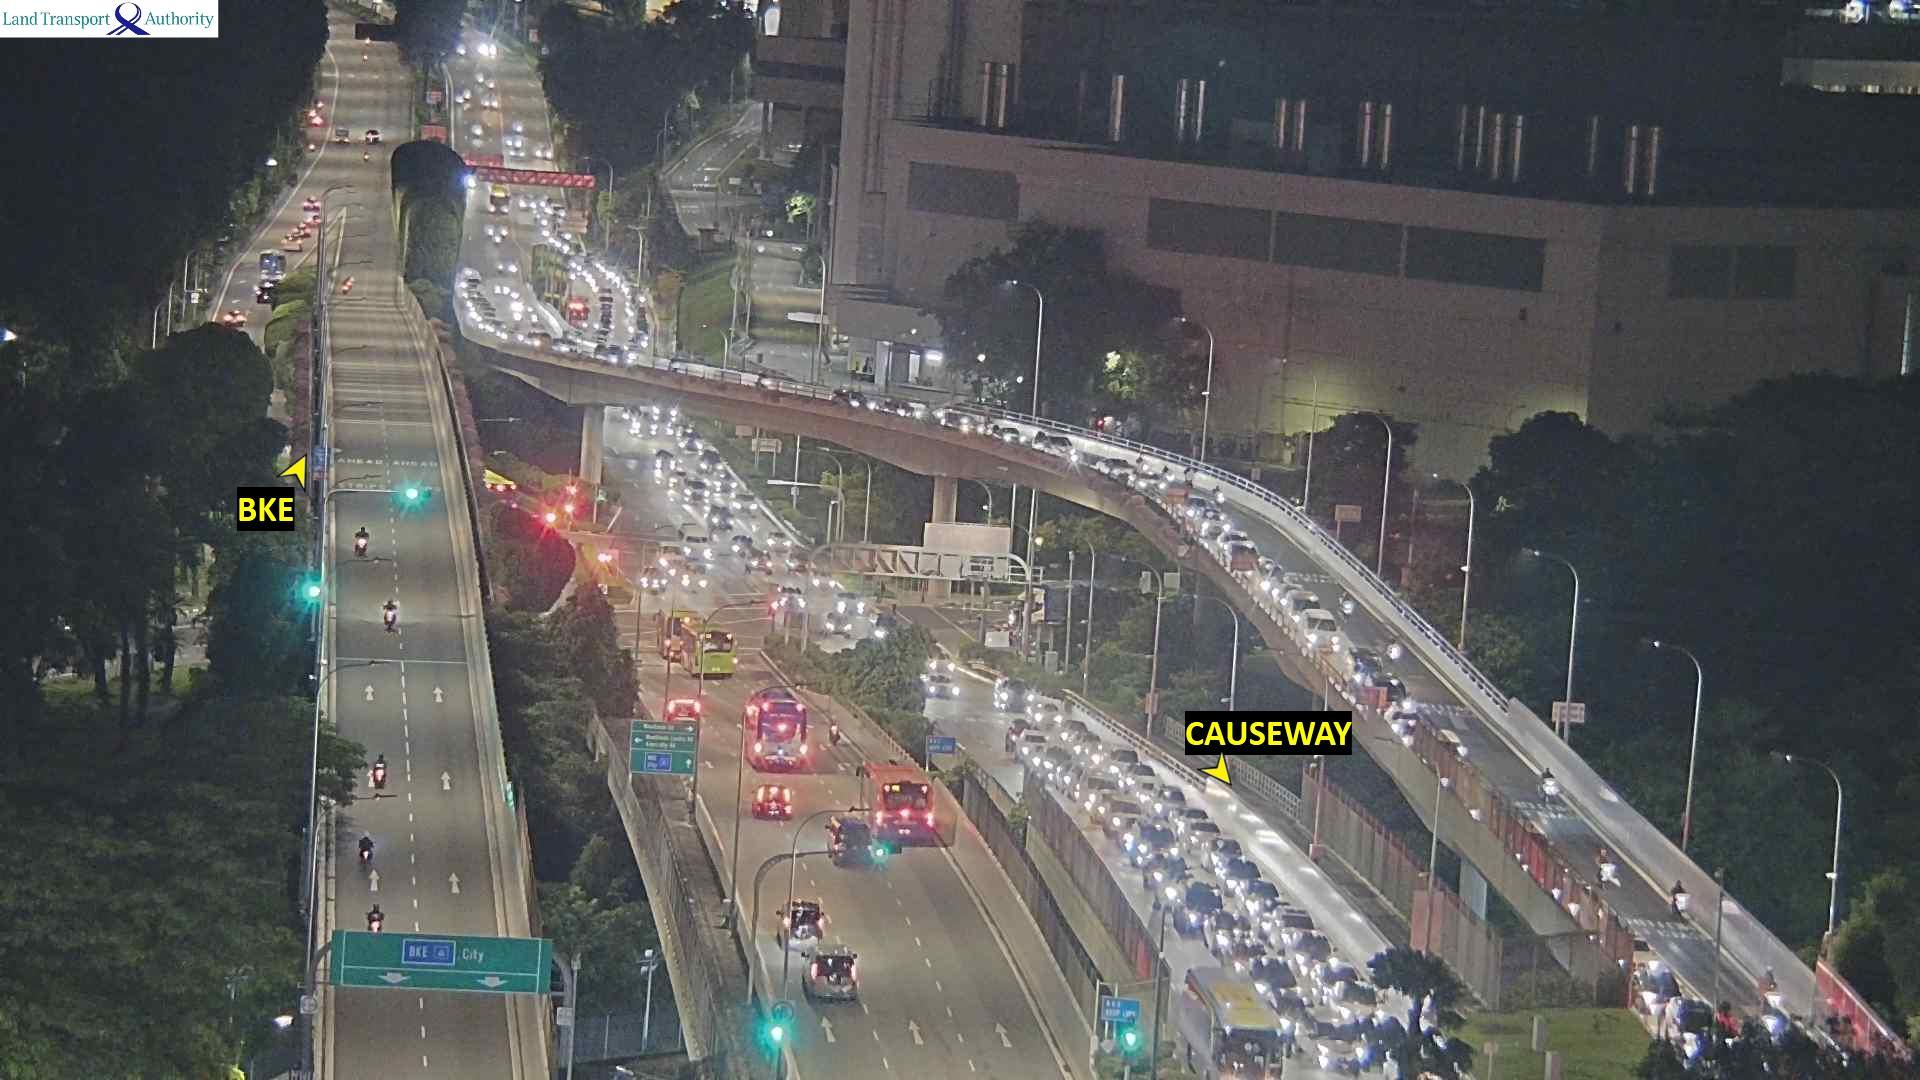vehicle-causeway-johor: (1182, 964, 1282, 1080), (1298, 1009, 1364, 1073), (1175, 881, 1221, 938), (1204, 914, 1251, 952), (1134, 828, 1176, 868), (1313, 960, 1357, 997), (1143, 853, 1188, 886), (1104, 800, 1143, 833), (1180, 819, 1220, 852), (1286, 932, 1329, 957), (1087, 455, 1130, 477), (1155, 881, 1193, 906), (1273, 907, 1312, 931), (1247, 881, 1280, 907), (1095, 791, 1121, 824), (1035, 430, 1077, 450), (1017, 731, 1046, 758), (1108, 746, 1137, 774), (1224, 861, 1258, 884), (1084, 773, 1114, 795), (1133, 767, 1160, 790), (600, 348, 633, 367), (840, 393, 872, 411)
vehicle-causeway-singapore: (862, 765, 935, 840), (746, 695, 806, 773), (802, 943, 861, 1000), (824, 816, 881, 866), (786, 898, 828, 938), (752, 783, 793, 820), (669, 696, 696, 721), (352, 527, 372, 558), (359, 831, 372, 868), (365, 905, 381, 928), (384, 599, 396, 628), (376, 752, 385, 787)
